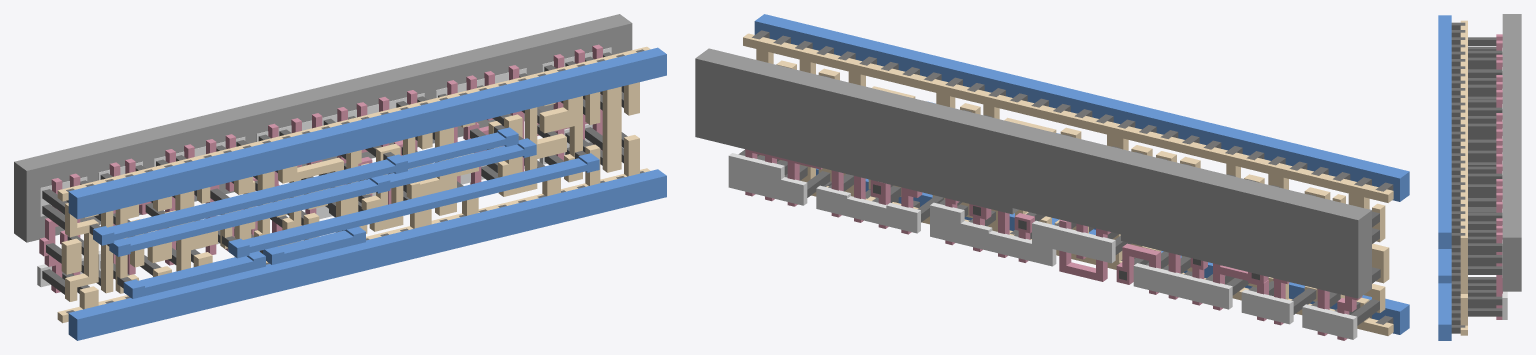
Rendered from sky130_fd_sc_hd__sedfxtp_2.gds.gltf.
3 views of the same model, side by side, from view 1: azimuth 30°, elevation 25°; view 2: azimuth 150°, elevation 25°; view 3: azimuth 270°, elevation 25° (orthographic). The views are drawn at different scales.
Visible parts, largest first — view 1: sky130_fd_sc_hd__sedfxtp_2_met1, sky130_fd_sc_hd__sedfxtp_2_li1, sky130_fd_sc_hd__sedfxtp_2_nwell, sky130_fd_sc_hd__sedfxtp_2_poly, sky130_fd_sc_hd__sedfxtp_2_licon, sky130_fd_sc_hd__sedfxtp_2_diff, sky130_fd_sc_hd__sedfxtp_2_mcon; view 2: sky130_fd_sc_hd__sedfxtp_2_nwell, sky130_fd_sc_hd__sedfxtp_2_li1, sky130_fd_sc_hd__sedfxtp_2_diff, sky130_fd_sc_hd__sedfxtp_2_met1, sky130_fd_sc_hd__sedfxtp_2_poly, sky130_fd_sc_hd__sedfxtp_2_licon, sky130_fd_sc_hd__sedfxtp_2_mcon; view 3: sky130_fd_sc_hd__sedfxtp_2_licon, sky130_fd_sc_hd__sedfxtp_2_nwell, sky130_fd_sc_hd__sedfxtp_2_met1, sky130_fd_sc_hd__sedfxtp_2_mcon, sky130_fd_sc_hd__sedfxtp_2_li1, sky130_fd_sc_hd__sedfxtp_2_poly, sky130_fd_sc_hd__sedfxtp_2_diff.
Boxes of the visible parts, box(x1,y1,x2,y2) form: sky130_fd_sc_hd__sedfxtp_2_met1: box(68, 47, 666, 340); sky130_fd_sc_hd__sedfxtp_2_li1: box(57, 46, 650, 323); sky130_fd_sc_hd__sedfxtp_2_nwell: box(14, 14, 632, 242); sky130_fd_sc_hd__sedfxtp_2_poly: box(39, 44, 602, 293); sky130_fd_sc_hd__sedfxtp_2_licon: box(42, 52, 627, 294); sky130_fd_sc_hd__sedfxtp_2_diff: box(37, 47, 611, 287); sky130_fd_sc_hd__sedfxtp_2_mcon: box(66, 49, 644, 313); sky130_fd_sc_hd__sedfxtp_2_nwell: box(695, 48, 1371, 298); sky130_fd_sc_hd__sedfxtp_2_li1: box(743, 33, 1393, 335); sky130_fd_sc_hd__sedfxtp_2_diff: box(728, 153, 1357, 339); sky130_fd_sc_hd__sedfxtp_2_met1: box(754, 14, 1409, 334); sky130_fd_sc_hd__sedfxtp_2_poly: box(745, 149, 1362, 340); sky130_fd_sc_hd__sedfxtp_2_licon: box(738, 75, 1380, 325); sky130_fd_sc_hd__sedfxtp_2_mcon: box(752, 30, 1393, 324); sky130_fd_sc_hd__sedfxtp_2_licon: box(1468, 37, 1502, 316); sky130_fd_sc_hd__sedfxtp_2_nwell: box(1502, 14, 1521, 291); sky130_fd_sc_hd__sedfxtp_2_met1: box(1438, 15, 1451, 340); sky130_fd_sc_hd__sedfxtp_2_mcon: box(1451, 22, 1465, 333); sky130_fd_sc_hd__sedfxtp_2_li1: box(1460, 20, 1467, 335); sky130_fd_sc_hd__sedfxtp_2_poly: box(1496, 34, 1502, 319); sky130_fd_sc_hd__sedfxtp_2_diff: box(1502, 48, 1507, 319).
Bounding box in the file's own units: 14.18 × 3.2 × 2.24.
